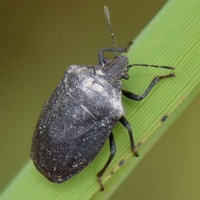insect: (32, 66, 99, 174), (124, 89, 171, 130), (103, 126, 130, 181)
